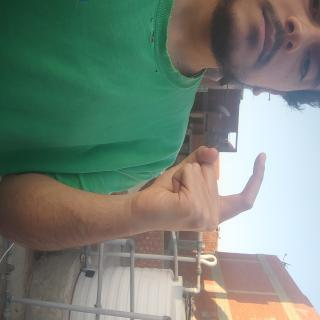RAA: (107, 65, 185, 262)
